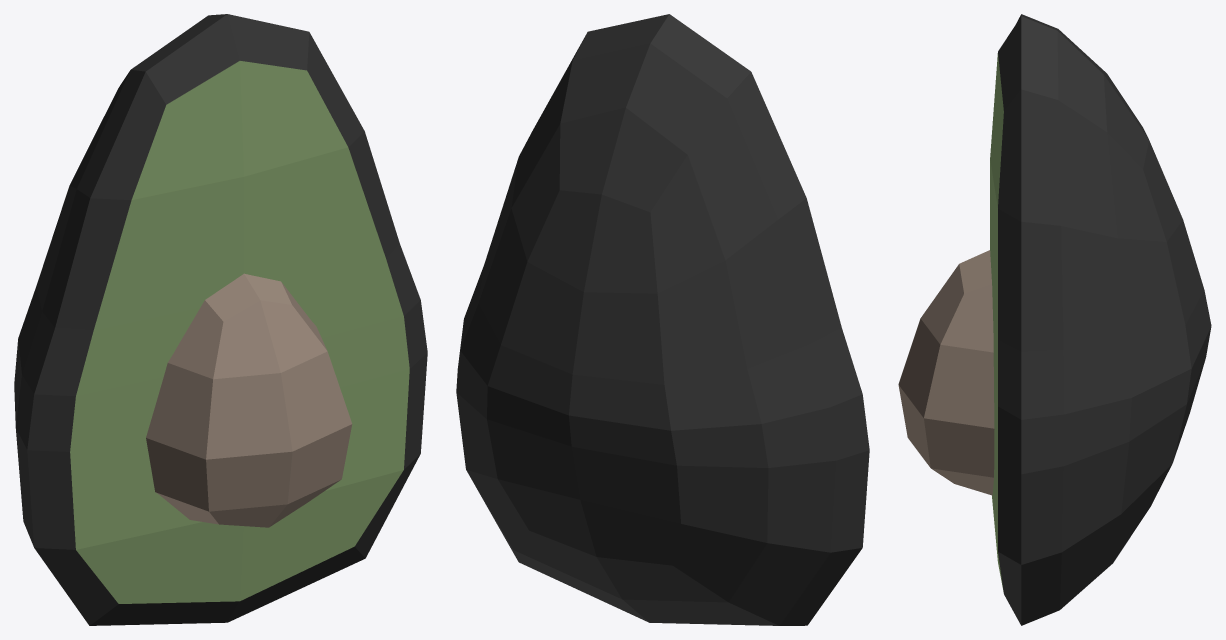
The model's file is Avocado.glb.
3 views of the same model, side by side, from view 1: azimuth 30°, elevation 25°; view 2: azimuth 150°, elevation 25°; view 3: azimuth 270°, elevation 25° (orthographic). The views are drawn at different scales.
Parts seen in each view (by area): view 1: Avocado; view 2: Avocado; view 3: Avocado.
Part boxes in pixels (box(x1,y1,x2,y2)): Avocado: box(14, 14, 427, 625); Avocado: box(456, 14, 869, 625); Avocado: box(898, 14, 1211, 625).
Bounding box in the file's own units: 0.7531 × 1.09 × 0.5398.
